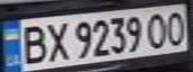2: (90, 16, 112, 57)
3: (109, 15, 130, 55)
9: (69, 17, 93, 60), (124, 12, 145, 53)
B: (15, 21, 48, 65)
O: (163, 8, 190, 47), (145, 10, 172, 49)
X: (42, 18, 72, 62)
